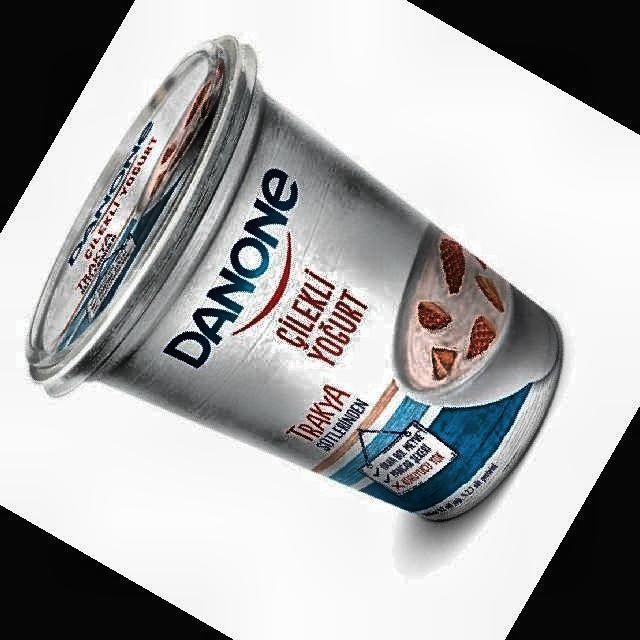plastic: (28, 38, 562, 520)
